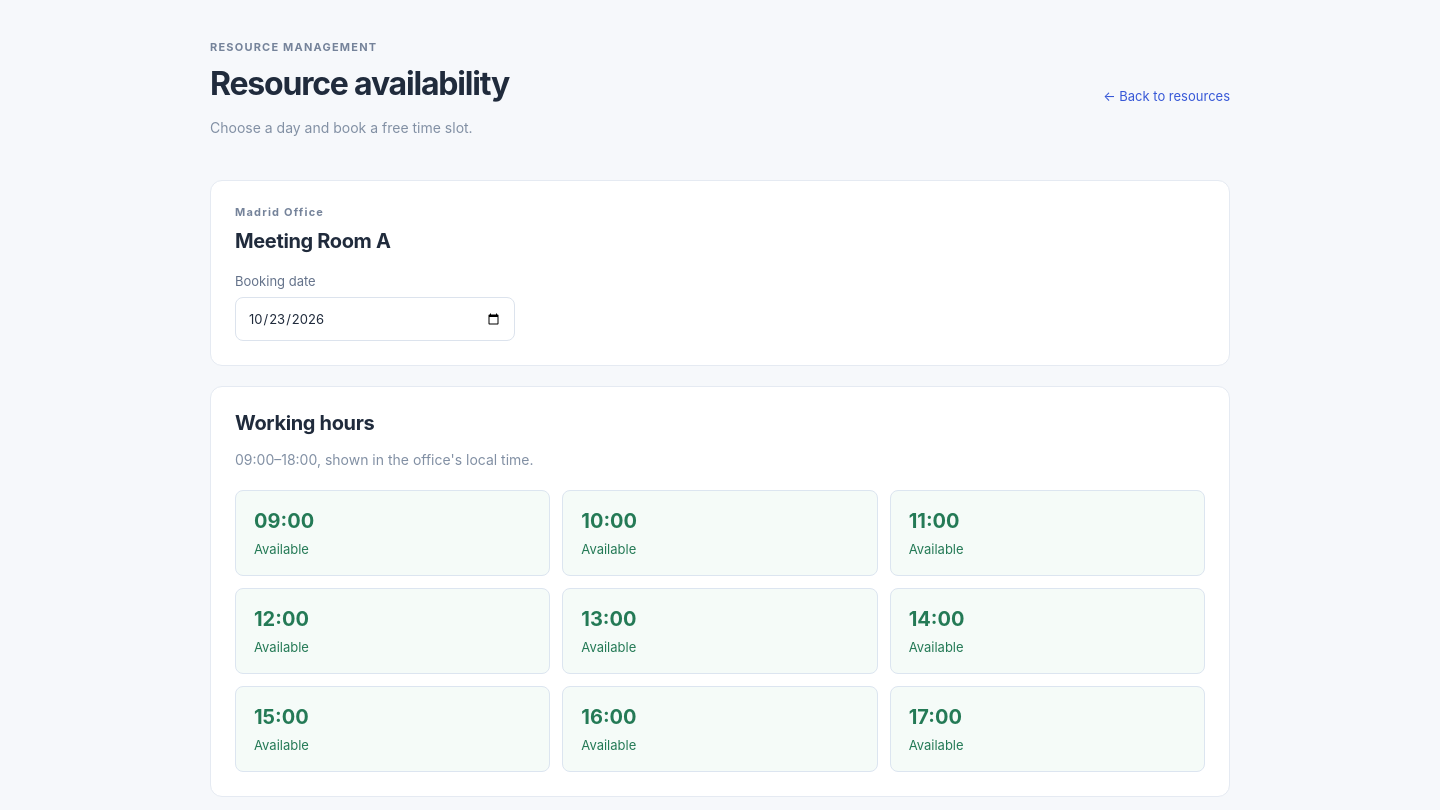
AvailabilityView › opens the booking modal when clicking an available slot
This screenshot has width=1440, height=810.
What coordinates should you click on to do the following:
click the button with class "slot" showing "09:00 Available"
I would click on:
 (284, 521)
Its box is [235,490,550,576].
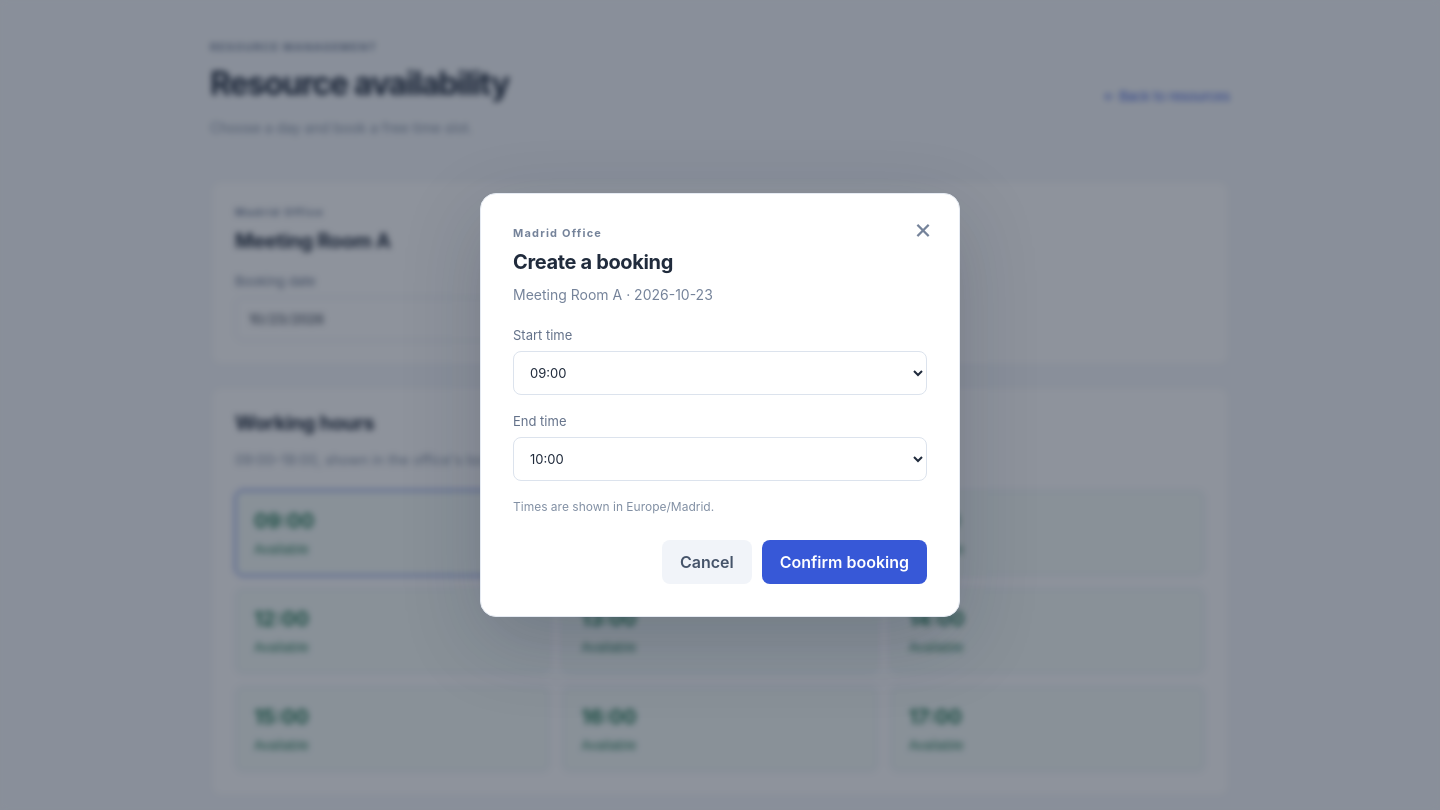
Expected: the text "09:00" is shown, [235,451,534,468]
Expected: the text "Create a booking" is shown, [513,250,673,274]
Expected: the text "Confirm booking" is shown, [762,540,927,584]
